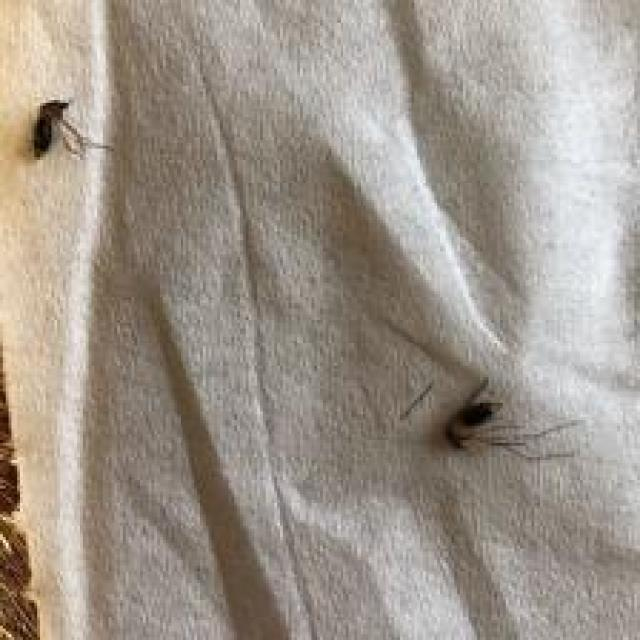Culex: (31, 98, 114, 162)
